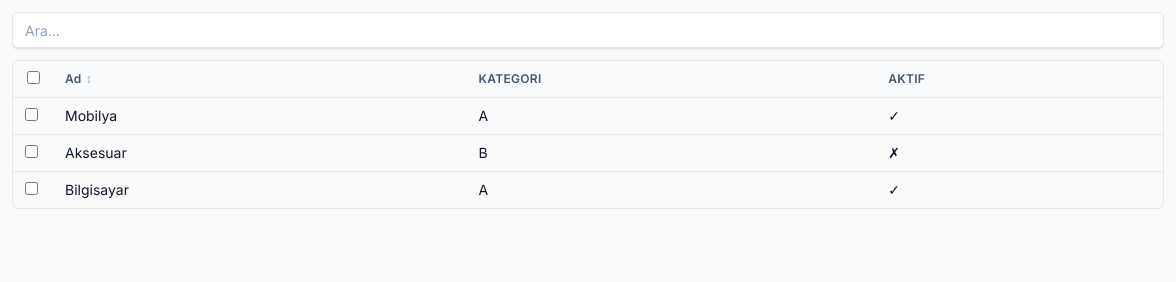
Test: ModuleList › 7. Tümünü seç → visible row'lar seçilir
The width and height of the screenshot is (1176, 282).
Click the checkbox named "tümünü" at {"x": 33, "y": 78}, box 26,71 -> 40,84
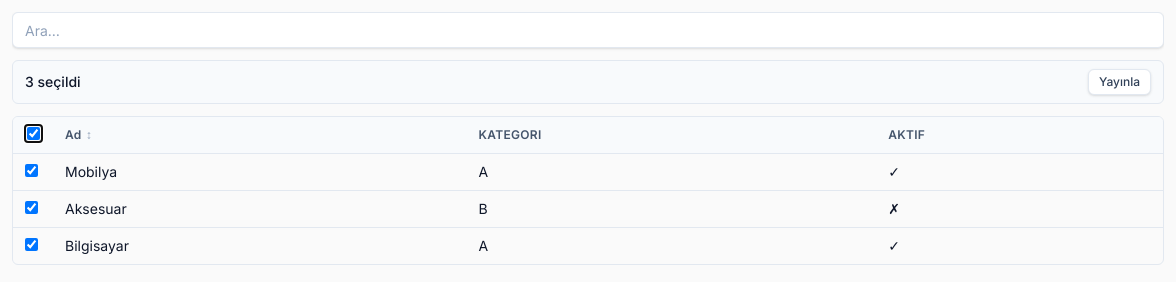
Now the text "3 seçildi" is shown, box 25,72 -> 81,92
